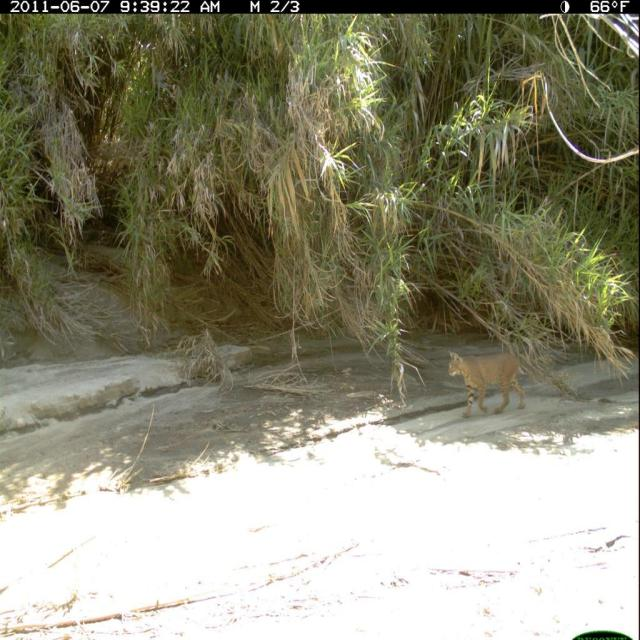bobcat: (440, 338, 544, 429)
